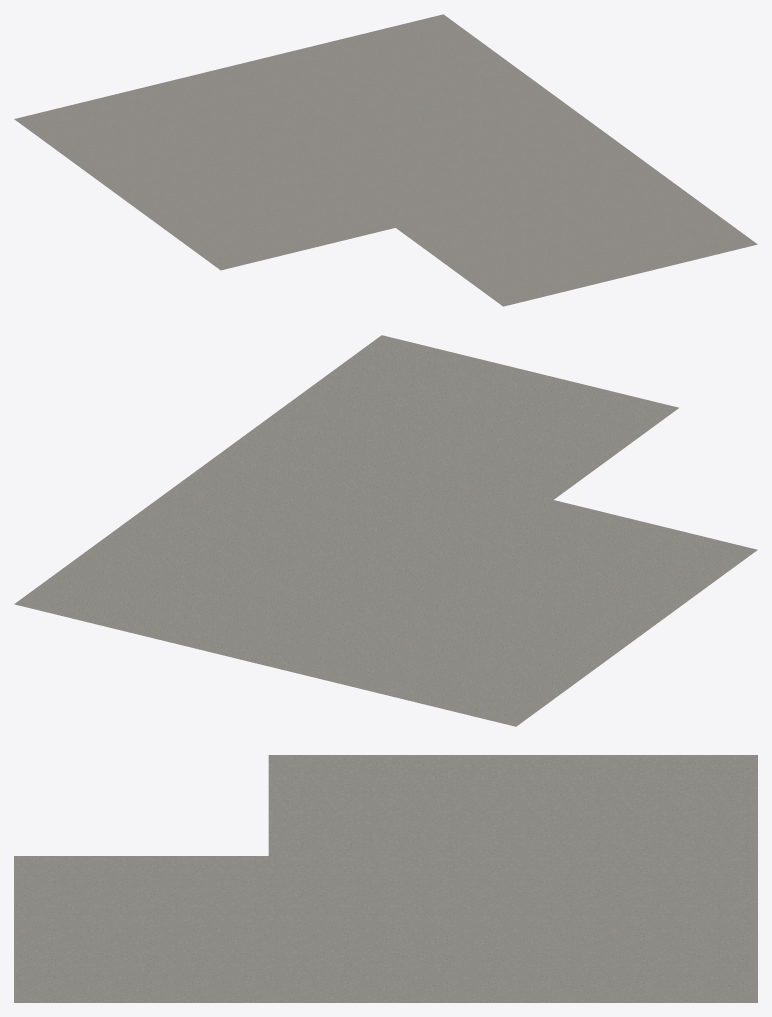
File: kd_stage_135b75_4_6_bounded.glb
3 renders of one model, top to bottom at view 1: azimuth 30°, elevation 25°; view 2: azimuth 150°, elevation 25°; view 3: azimuth 270°, elevation 25°, orthographic. The views are drawn at different scales.
Parts seen in each view (by area): view 1: kd_stage_135b75_4_6_bounded; view 2: kd_stage_135b75_4_6_bounded; view 3: kd_stage_135b75_4_6_bounded.
Boxes of the visible parts, box(x1,y1,x2,y2) form: kd_stage_135b75_4_6_bounded: box(14, 14, 757, 306); kd_stage_135b75_4_6_bounded: box(14, 335, 757, 726); kd_stage_135b75_4_6_bounded: box(14, 755, 757, 1002).
Size of the model in its own units: 3.69 by 2.38e-07 by 4.68.
Materials: 1 (1 with a texture image).
